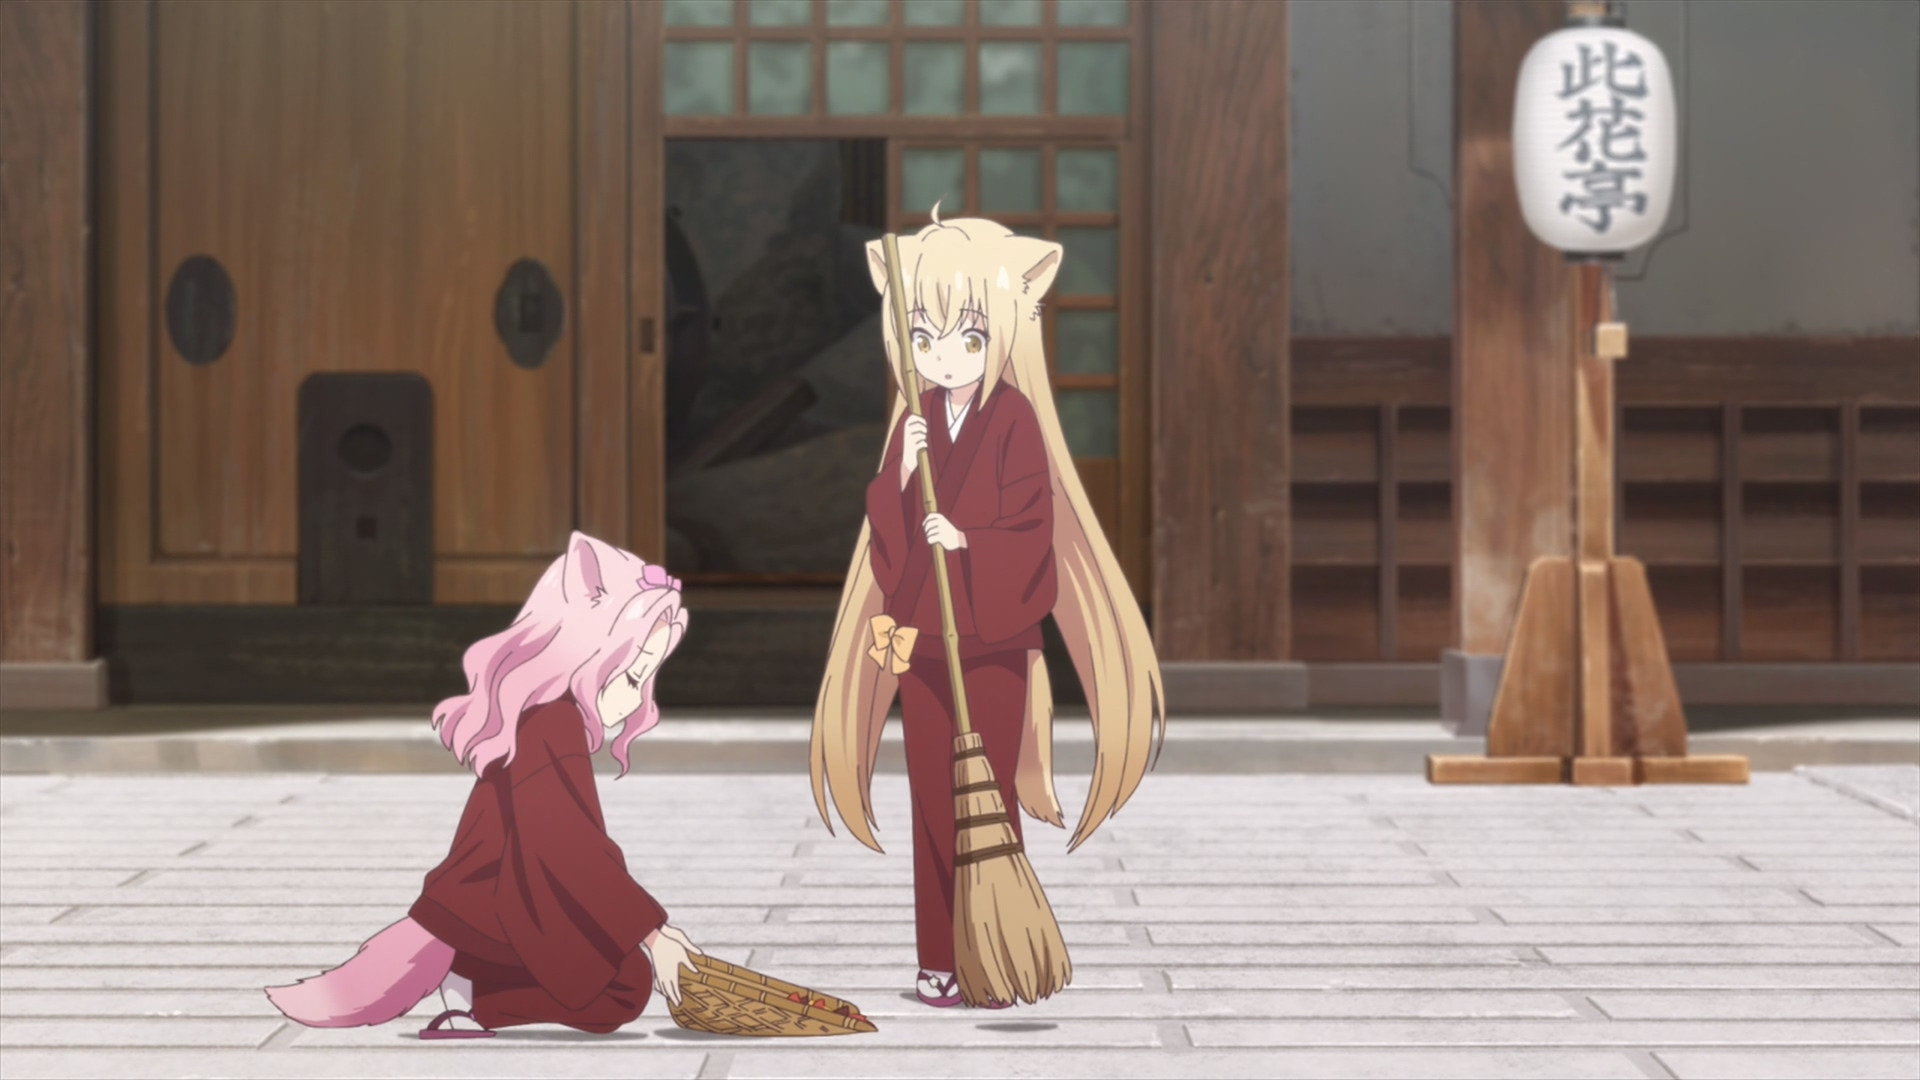柚: (811, 195, 1164, 1009)
莲: (266, 530, 688, 1038)
